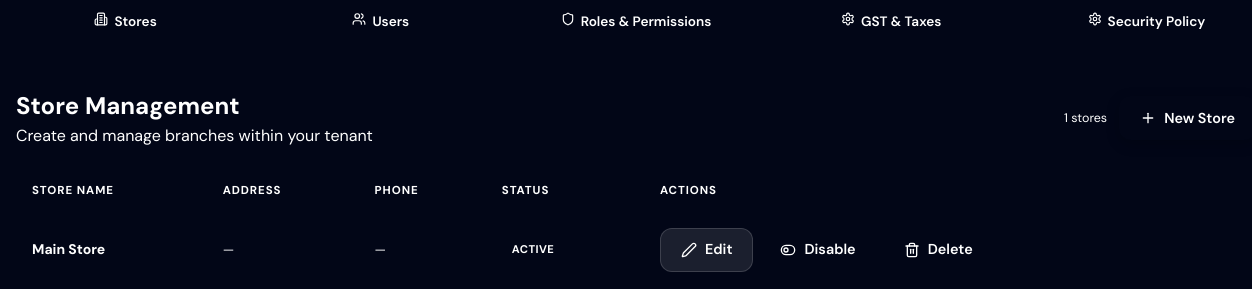
Test: AdminPage user status controls › enables an inactive user through the status endpoint
Later steps or results of the test are not shown.
Click the button "Users".
click(381, 22)  # box x1=255 y1=4 x2=506 y2=40
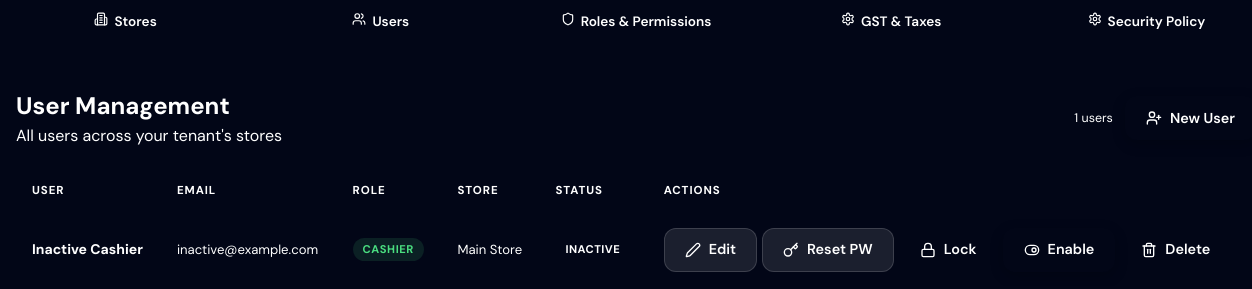
Check: the button "Enable" is shown, box x1=1003 y1=228 x2=1115 y2=272
